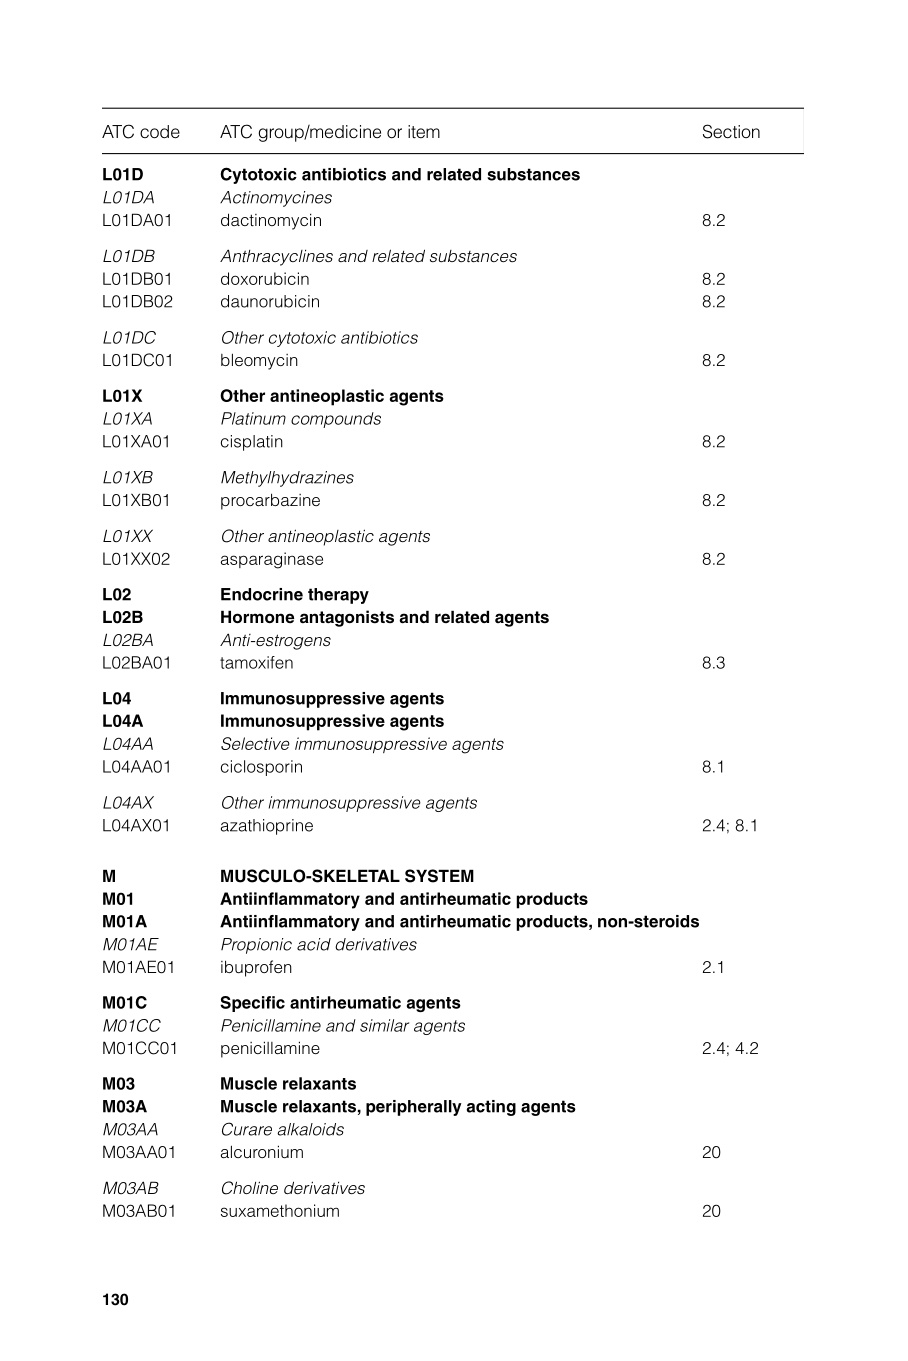partial_lined_merged_cells: (92, 104, 808, 1253)
